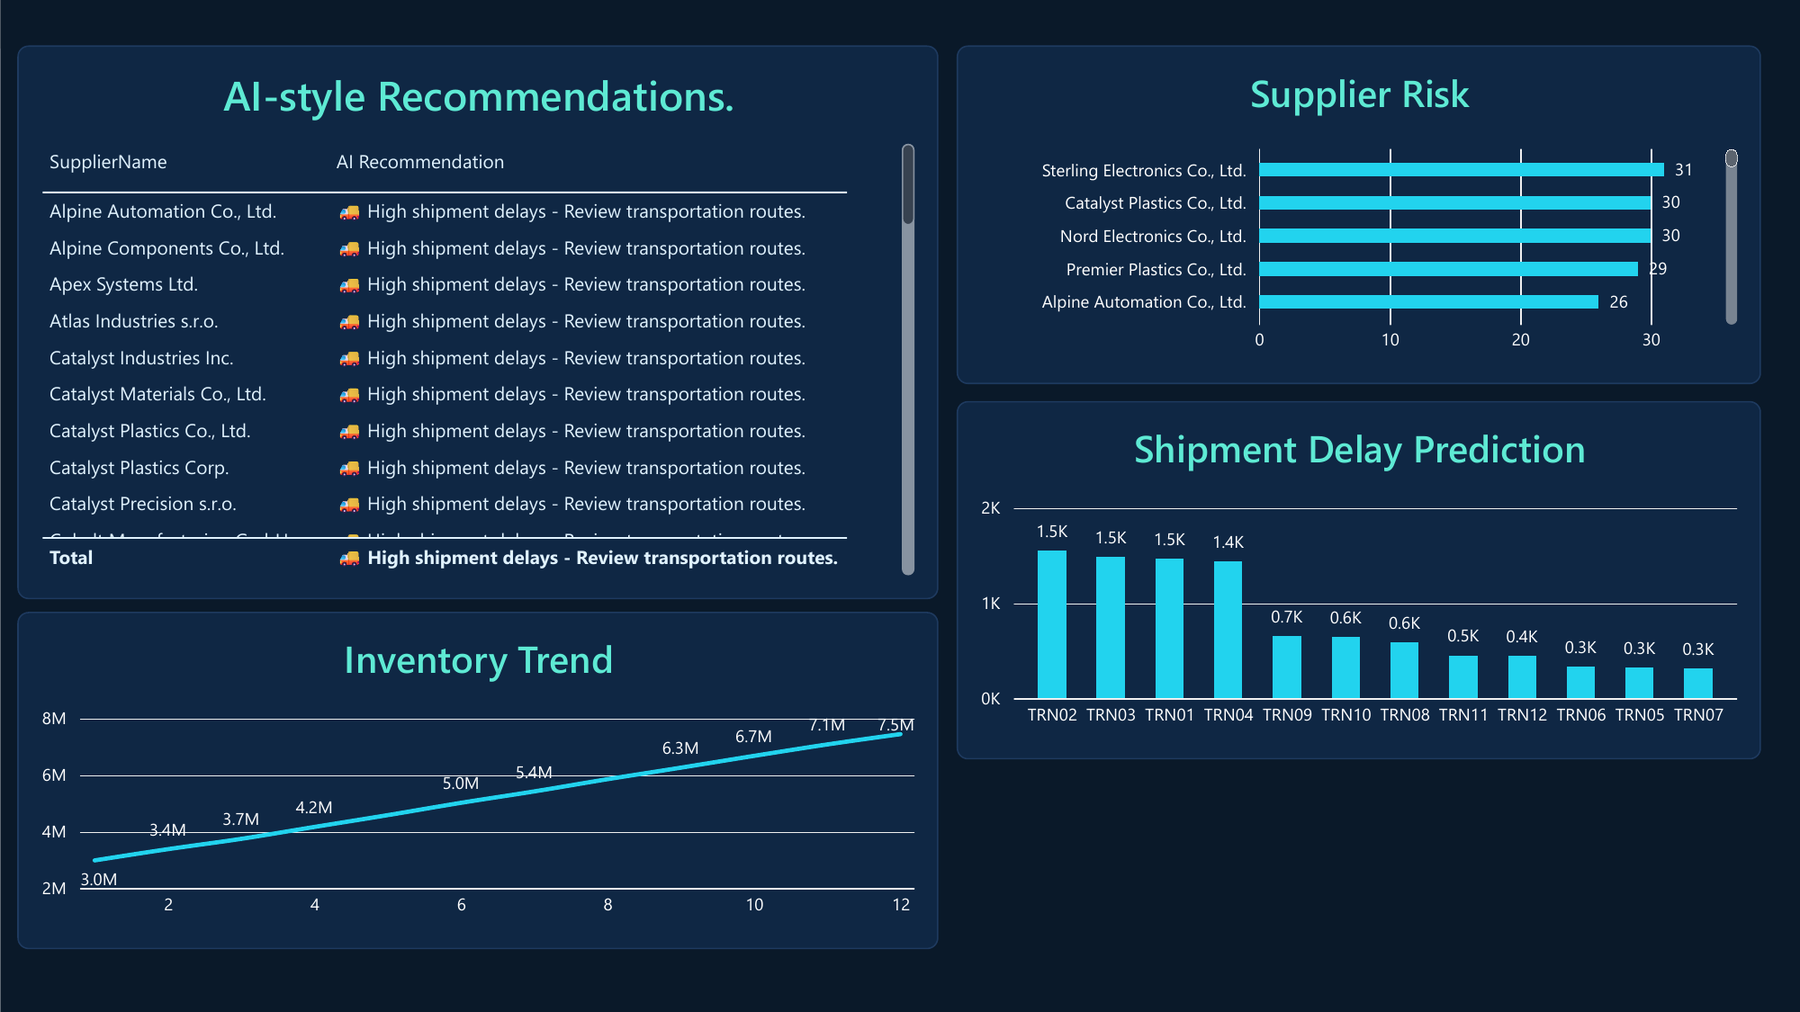

The dashboard page shown, as its layout file describes it:
{"tool":"powerbi","page":{"name":"Forecast & Insights","canvas":[1280,720],"ordinal":4},"visuals":[{"type":"lineChart","title":"Inventory Trend","fields":{"Category":["dim_calendar.Month"],"Y":["dim_calendar.Total Inventory"]},"box":[11.7,435.4,655.4,239.7],"z":0},{"type":"clusteredBarChart","title":" Supplier Risk","fields":{"Category":["dim_suppliers.SupplierName"],"Y":["fact_purchase_orders.Average Lead Time"]},"box":[680.5,32.3,571.9,240.6],"z":1000},{"type":"clusteredColumnChart","title":"Shipment Delay Prediction","fields":{"Category":["dim_transportation.TransportationID"],"Y":["dim_calendar.Delayed Shipments"]},"box":[680.5,284.6,571.9,255.9],"z":2000},{"type":"tableEx","title":"AI-style Recommendations.","fields":{"Values":["dim_suppliers.SupplierName","dim_calendar.AI Recommendation"]},"box":[11.7,32.3,655.4,393.2],"z":3000}]}

Visuals, with their boxes in screenshot pixels (x1, y1, x2, y2), scaled from the page's 1280x720 canvas onto the 1800x1012 screenshot:
"Inventory Trend" lineChart: [x1=16, y1=612, x2=938, y2=949]
" Supplier Risk" clusteredBarChart: [x1=957, y1=45, x2=1761, y2=384]
"Shipment Delay Prediction" clusteredColumnChart: [x1=957, y1=400, x2=1761, y2=760]
"AI-style Recommendations." tableEx: [x1=16, y1=45, x2=938, y2=598]
